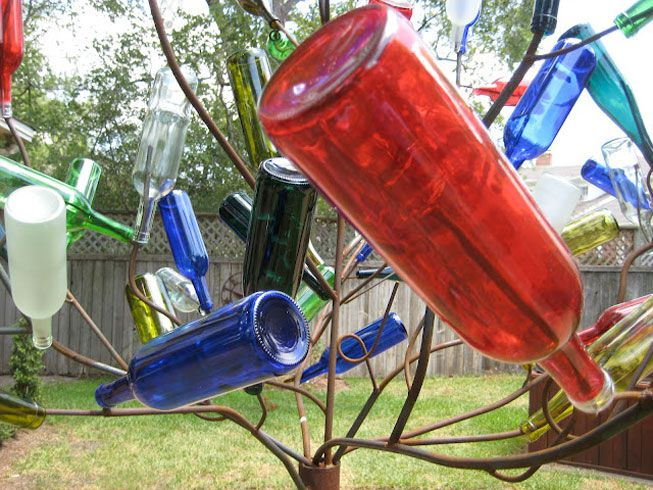glass_bottle: (3, 184, 68, 355), (1, 1, 23, 121)
